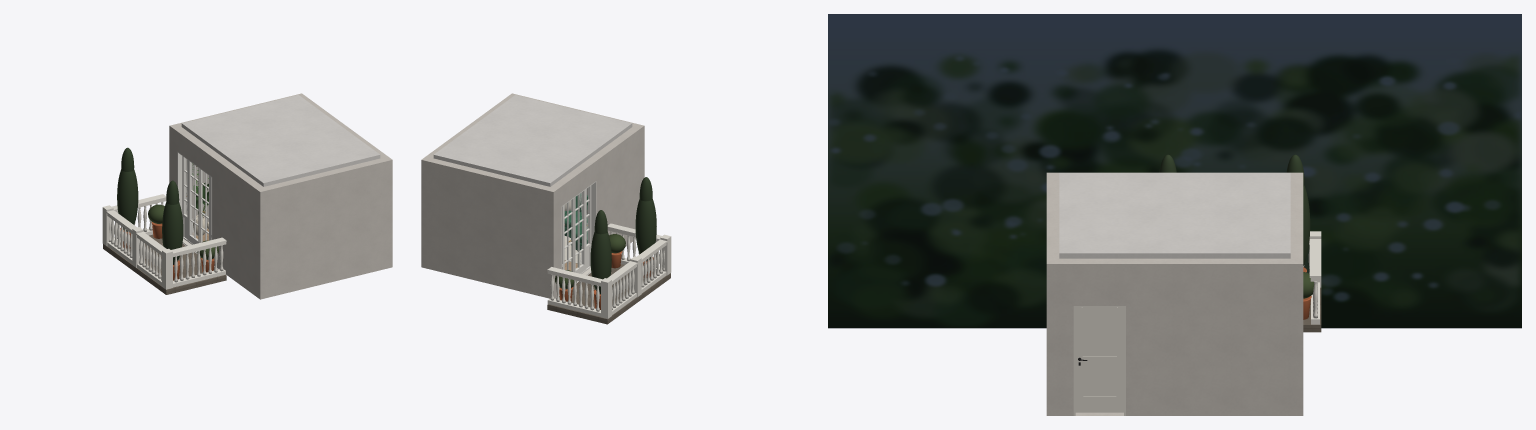
The model's file is room-small.glb.
3 renders of one model, left to right at view 1: azimuth 30°, elevation 25°; view 2: azimuth 150°, elevation 25°; view 3: azimuth 270°, elevation 25°, orthographic. The views are drawn at different scales.
Parts seen in each view (by area): view 1: Wall_Front, Ceiling, Wall_Left, Balcony_Parts_stoneWhite, Balcony_Parts_cypress, Balcony_Frames_frameWhite, Balcony_Parts_stone, Wall_Back, Balcony_Parts_shrub, Balcony_Parts_terracotta, Wall_Right; view 2: Wall_Back, Ceiling, Wall_Left, Balcony_Parts_stoneWhite, Balcony_Parts_cypress, Balcony_Frames_frameWhite, Balcony_Parts_stone, Wall_Front, Sofa_Parts_velvetGreen, Balcony_Parts_terracotta, Balcony_Parts_shrub, Wall_Right; view 3: Outside_Garden, Wall_Right, Ceiling, Door_door, Wall_Back, Wall_Front, Balcony_Parts_stoneWhite, Balcony_Parts_cypress.
Part boxes in pixels (box(x1,y1,x2,y2)): Wall_Front: box(255, 156, 392, 299); Ceiling: box(181, 95, 380, 186); Wall_Left: box(174, 127, 262, 295); Balcony_Parts_stoneWhite: box(102, 194, 226, 289); Balcony_Parts_cypress: box(117, 147, 183, 264); Balcony_Frames_frameWhite: box(177, 151, 212, 244); Balcony_Parts_stone: box(103, 234, 226, 294); Wall_Back: box(169, 93, 305, 223); Balcony_Parts_shrub: box(148, 204, 218, 259); Balcony_Parts_terracotta: box(120, 222, 214, 280); Wall_Right: box(303, 96, 387, 158); Wall_Back: box(421, 156, 558, 298); Ceiling: box(433, 95, 632, 186); Wall_Left: box(551, 127, 639, 295); Balcony_Parts_stoneWhite: box(547, 223, 671, 318); Balcony_Parts_cypress: box(590, 177, 656, 294); Balcony_Frames_frameWhite: box(561, 181, 596, 273); Balcony_Parts_stone: box(547, 264, 670, 324); Wall_Front: box(508, 93, 644, 195); Sofa_Parts_velvetGreen: box(564, 193, 587, 250); Balcony_Parts_terracotta: box(559, 251, 653, 309); Balcony_Parts_shrub: box(555, 234, 625, 289); Wall_Right: box(426, 96, 510, 158); Outside_Garden: box(828, 14, 1521, 328); Wall_Right: box(1059, 258, 1290, 415); Ceiling: box(1059, 172, 1290, 258); Door_door: box(1073, 306, 1125, 415); Wall_Back: box(1290, 172, 1303, 415); Wall_Front: box(1046, 172, 1059, 415); Balcony_Parts_stoneWhite: box(1303, 231, 1321, 324); Balcony_Parts_cypress: box(1159, 154, 1310, 265).
Size of the model in its own units: 5.94 by 6 by 12.
Materials: 95 (27 with a texture image).
